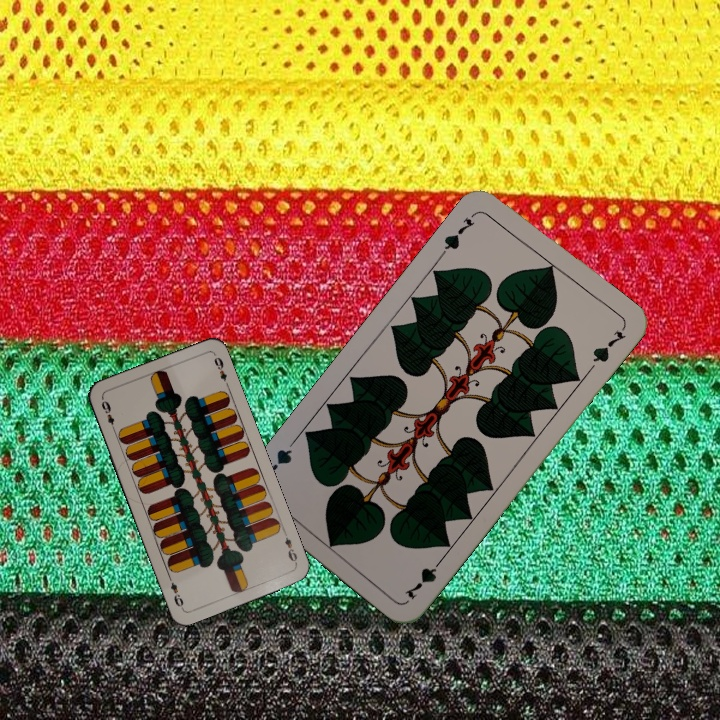E9: (279, 527, 300, 566), (97, 396, 118, 434)
G7: (400, 552, 447, 602), (437, 208, 480, 258)
